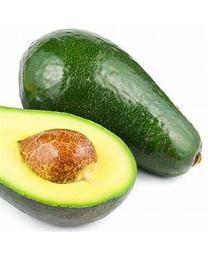avocado: (19, 29, 203, 179), (1, 105, 137, 227)
